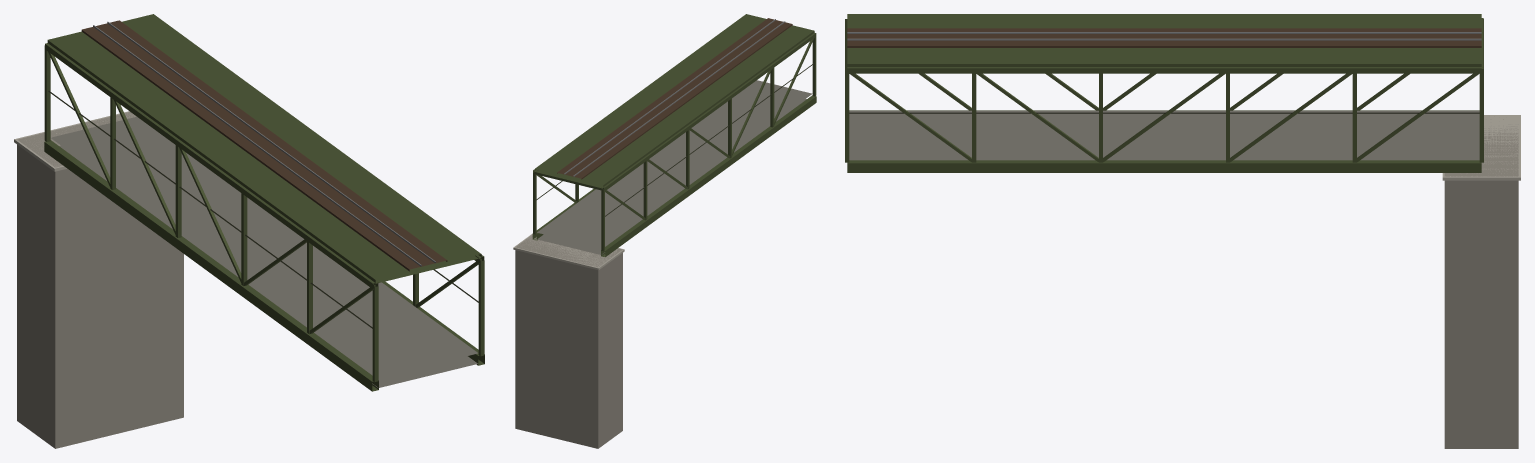
The model's file is govtruss.glb.
3 views of the same model, side by side, from view 1: azimuth 30°, elevation 25°; view 2: azimuth 150°, elevation 25°; view 3: azimuth 270°, elevation 25° (orthographic). The views are drawn at different scales.
Parts seen in each view (by area): view 1: govtruss_lod0; view 2: govtruss_lod0; view 3: govtruss_lod0.
Boxes of the visible parts, x1,y1,x2,y2 form: govtruss_lod0: (14, 14, 484, 448); govtruss_lod0: (513, 14, 816, 448); govtruss_lod0: (845, 14, 1520, 448).
Size of what is drawn, in the model's own units: 14 by 39.95 by 63.9.
